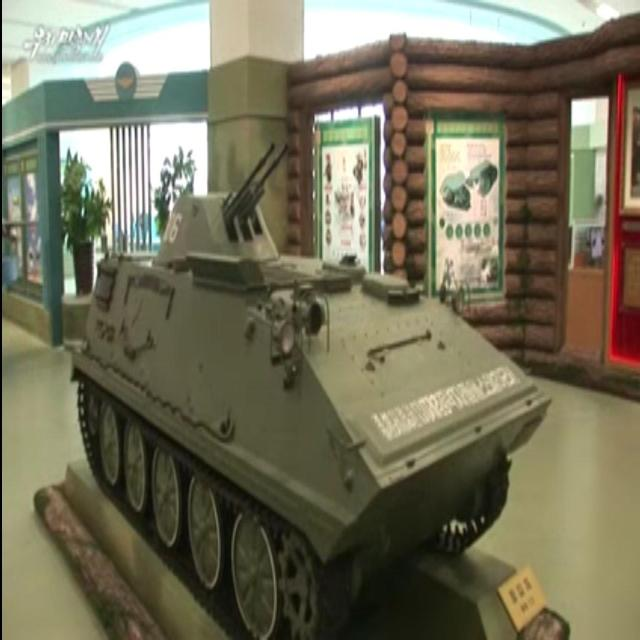north tank: (67, 154, 598, 640)
